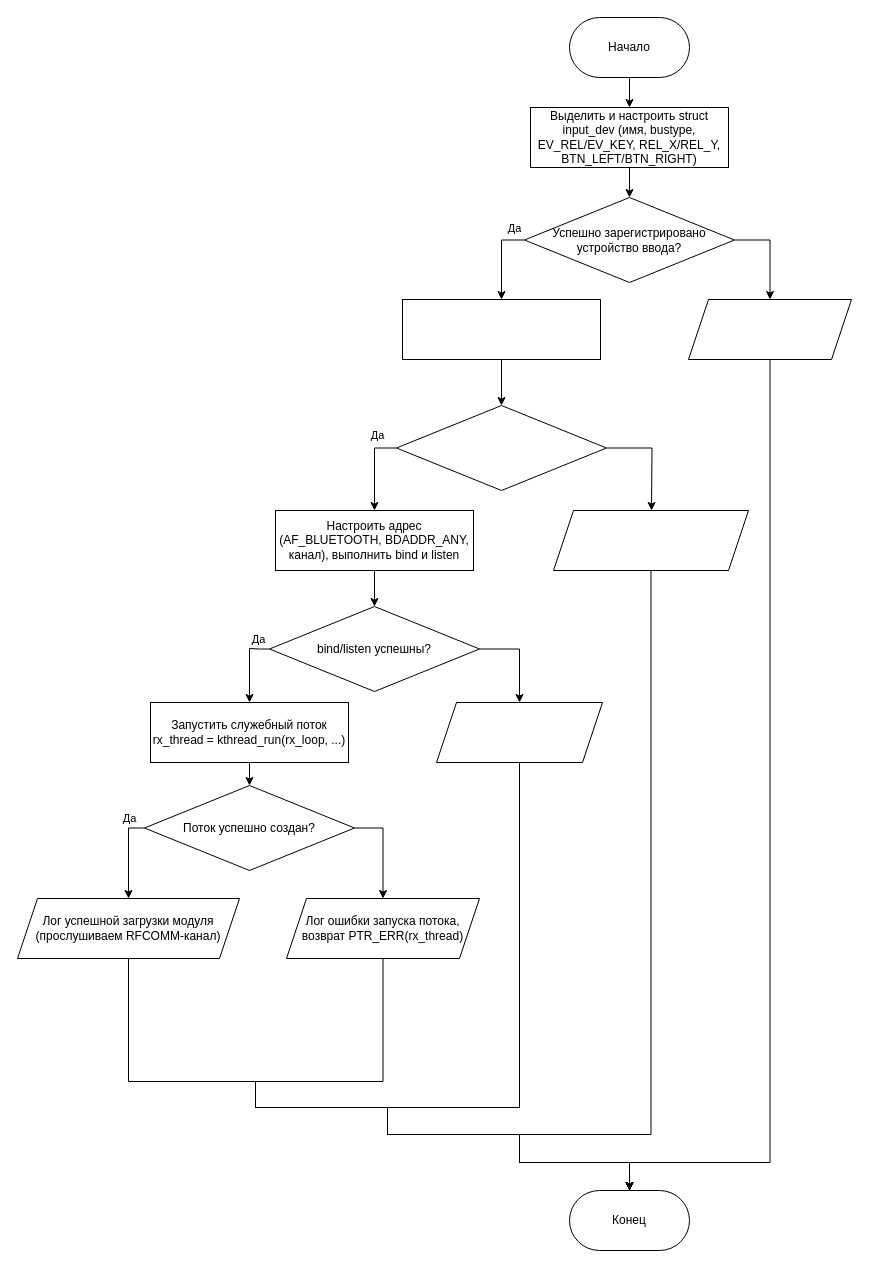
This 869x1268 diagram has some shape labels left out. Here are the shapes that lost their labels. From the top down, the box of each, then its label:
(402, 298, 600, 360): Создать RFCOMM сокет (sock_create_kern)
(688, 298, 852, 360): Вернуть код ошибки
(396, 404, 606, 490): Сокет создан успешно?
(552, 510, 748, 570): Лог ошибки создания сокета, возврат err
(436, 702, 602, 762): Лог ошибки bind/listen, возврат err
